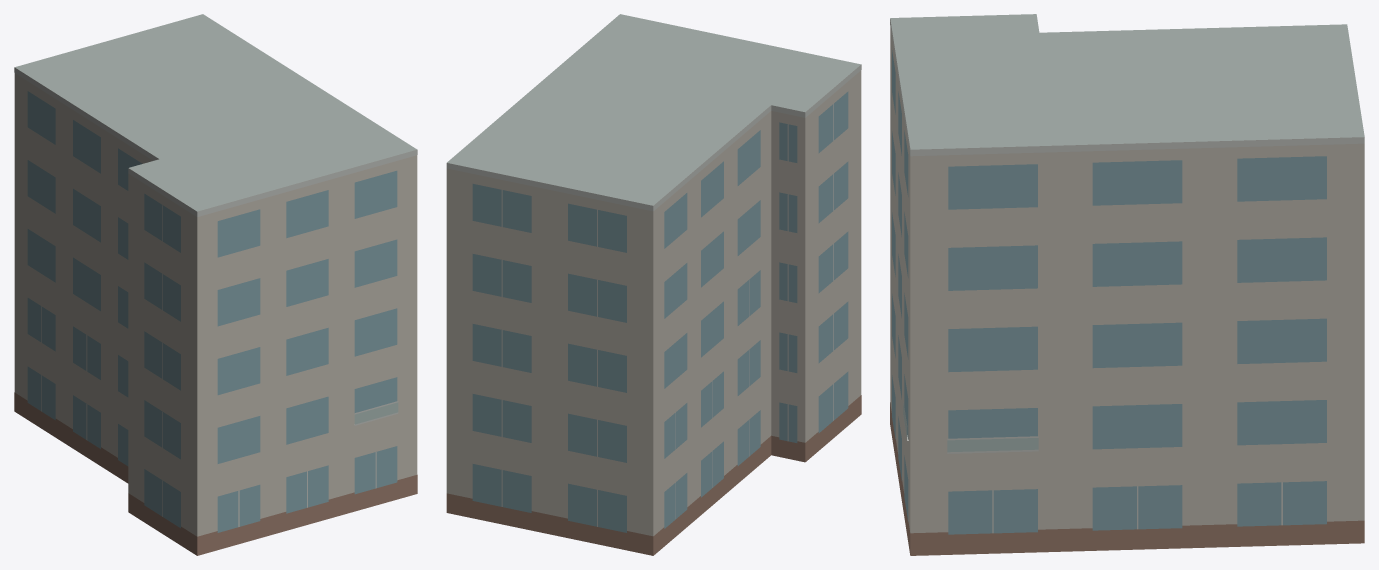
The model's file is survey-upis-32993685.glb.
3 renders of one model, left to right at view 1: azimuth 30°, elevation 25°; view 2: azimuth 150°, elevation 25°; view 3: azimuth 270°, elevation 25°, orthographic. The views are drawn at different scales.
Parts seen in each view (by area): view 1: survey-upis-32993685.tmp; view 2: survey-upis-32993685.tmp; view 3: survey-upis-32993685.tmp.
Part boxes in pixels (box(x1,y1,x2,y2)): survey-upis-32993685.tmp: box(14, 14, 417, 555); survey-upis-32993685.tmp: box(446, 14, 861, 555); survey-upis-32993685.tmp: box(890, 14, 1364, 555).
Size of the model in its own units: 10.9 by 15.2 by 16.11.
